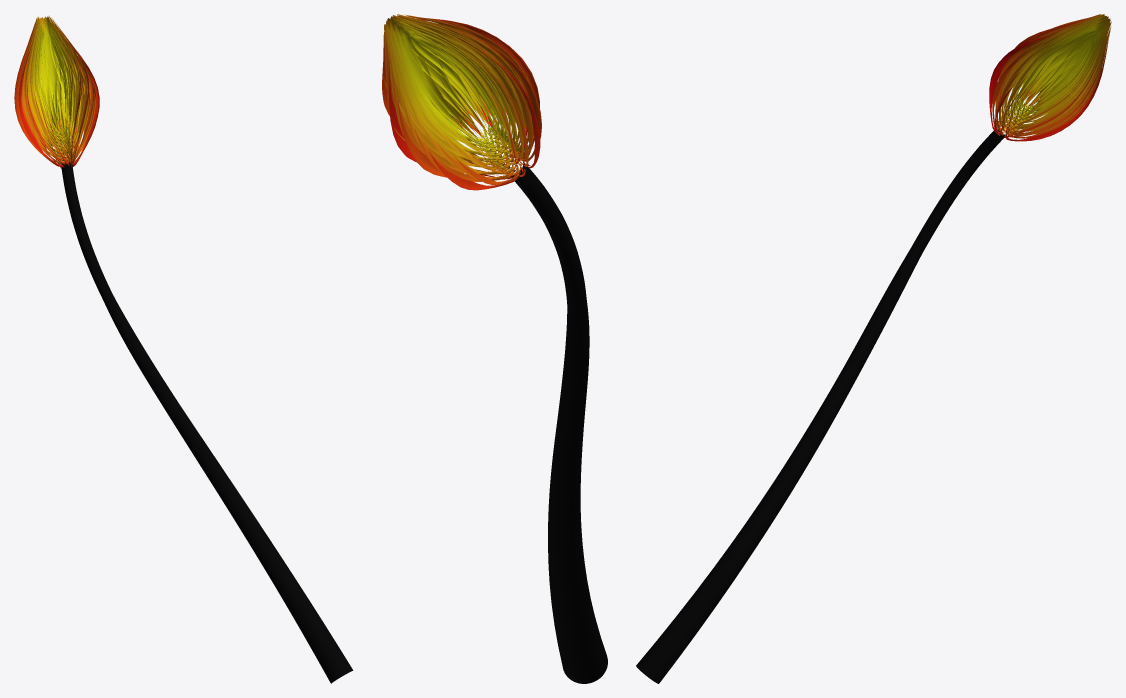
Rendered from Dahlia_Full.glb.
3 views of the same model, side by side, from view 1: azimuth 30°, elevation 25°; view 2: azimuth 150°, elevation 25°; view 3: azimuth 270°, elevation 25° (orthographic). The views are drawn at different scales.
Parts seen in each view (by area): view 1: Dahlia_Full_mesh; view 2: Dahlia_Full_mesh; view 3: Dahlia_Full_mesh.
Part boxes in pixels (x1=…): Dahlia_Full_mesh: x1=14, y1=16, x2=353, y2=683; Dahlia_Full_mesh: x1=382, y1=14, x2=607, y2=683; Dahlia_Full_mesh: x1=636, y1=14, x2=1111, y2=683.
Size of the model in its own units: 0.4458 by 1.48 by 1.04.
